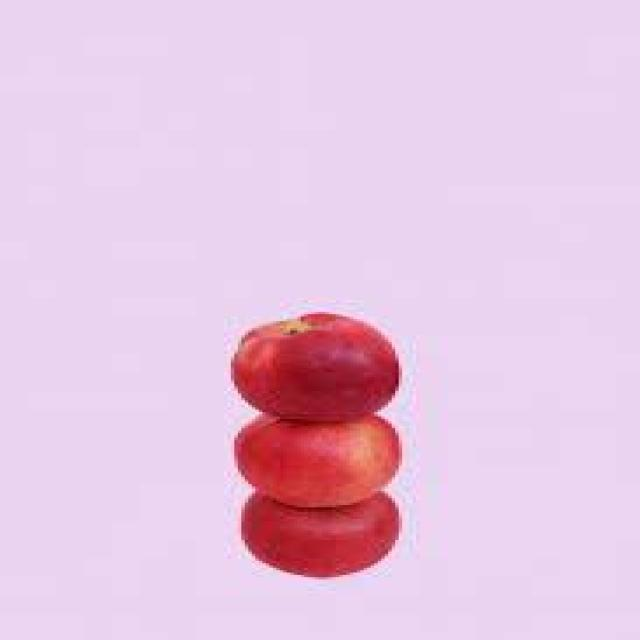maca: (227, 310, 399, 421), (231, 412, 402, 507), (238, 489, 399, 577)
